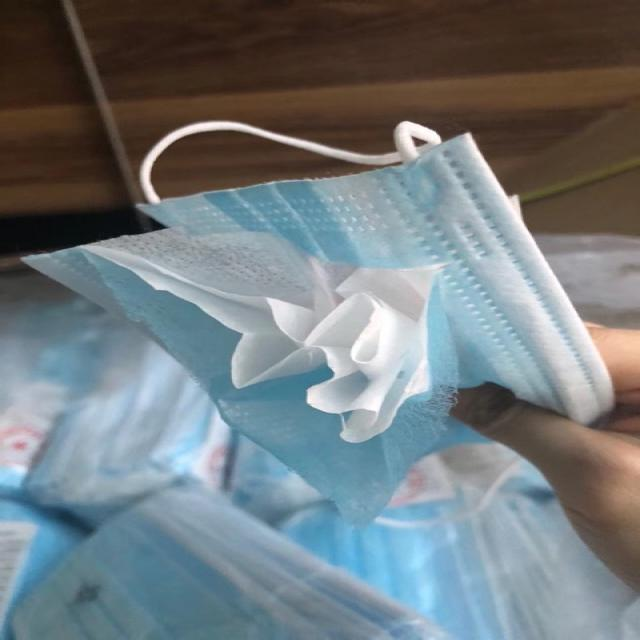face mask: (85, 120, 624, 549)
